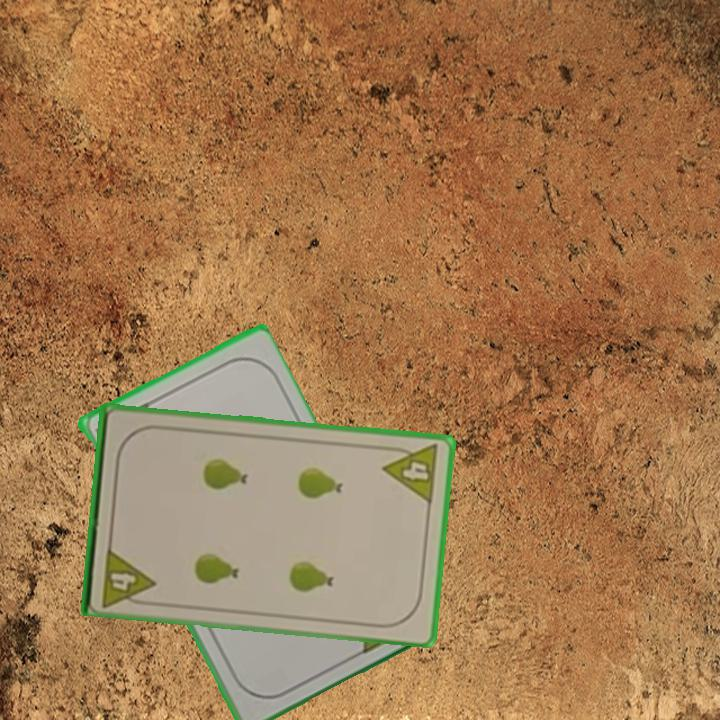4p: (380, 441, 442, 506), (98, 543, 157, 609)
